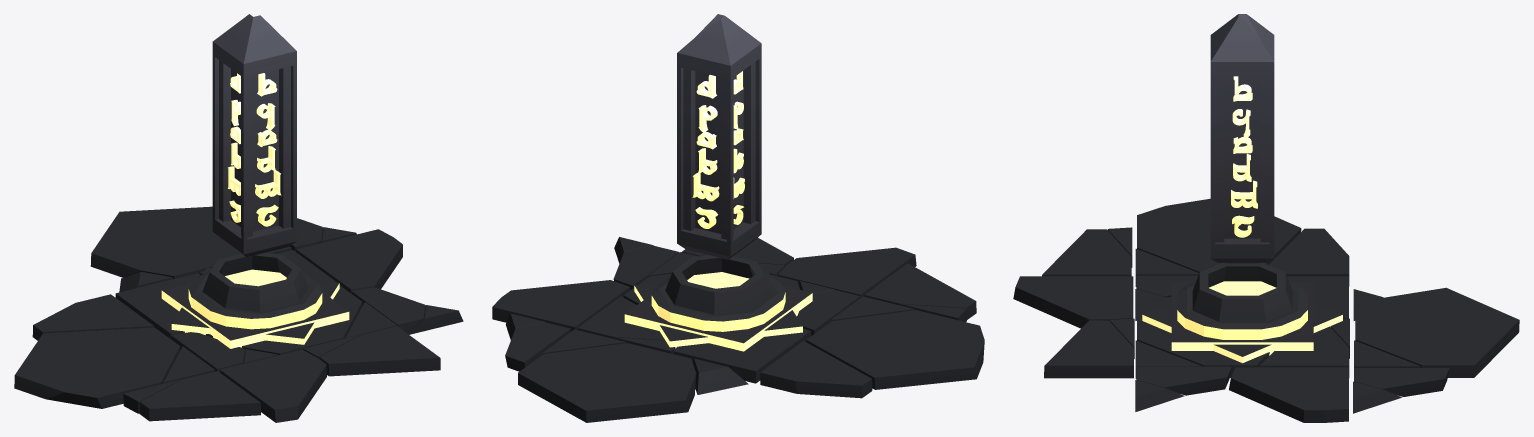
Rendered from Torre_elfo2.fbx.
3 views of the same model, side by side, from view 1: azimuth 30°, elevation 25°; view 2: azimuth 150°, elevation 25°; view 3: azimuth 270°, elevation 25° (orthographic). The views are drawn at different scales.
Visible parts, largest first — view 1: Text.003; view 2: Text.003; view 3: Text.003.
Boxes of the visible parts, bbox=[...] form: Text.003: bbox=[14, 14, 463, 422]; Text.003: bbox=[492, 14, 984, 422]; Text.003: bbox=[1013, 14, 1519, 422].
Size of the model in its own units: 231 by 159 by 229.
